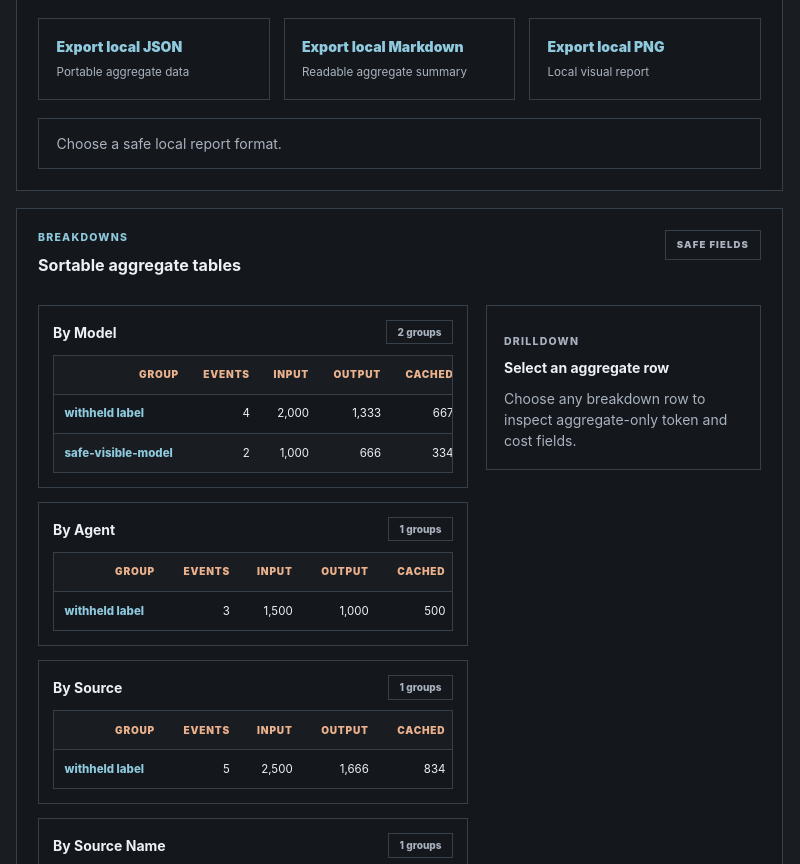
Test: desktop renderer shell › withholds sentinel-like and path-like breakdown labels from tables and drilldowns
(page scrolled)
Click the button with aria-label "Show details for withheld label in By Model".
click(104, 414)  # box 64,405 -> 144,423
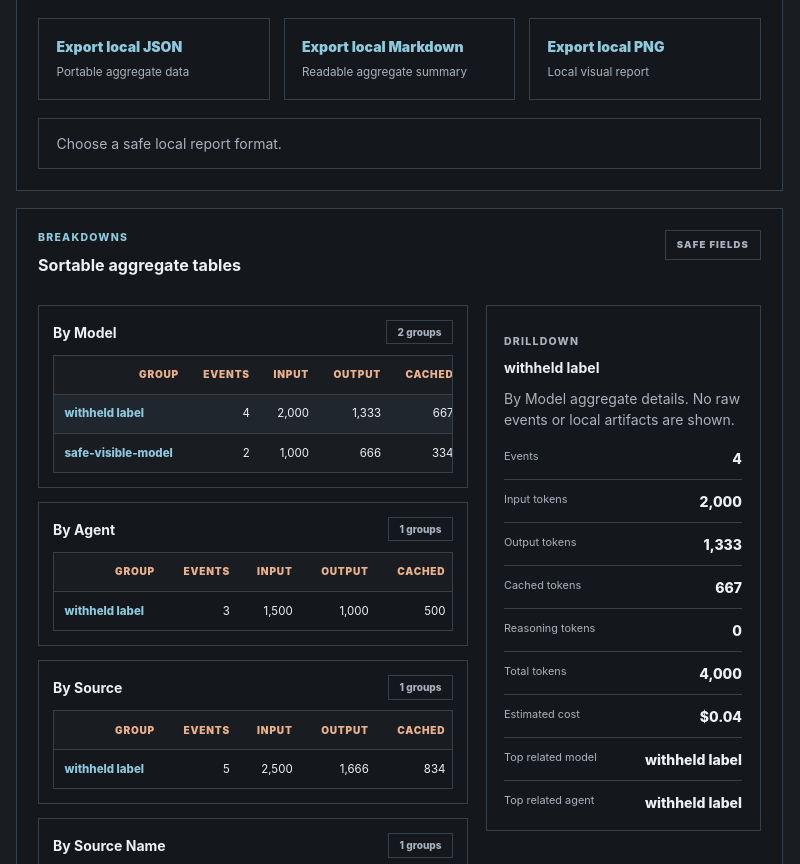
Expected: the element named "Breakdown drilldown panel" shows "withheld label", 504,359 -> 600,376
